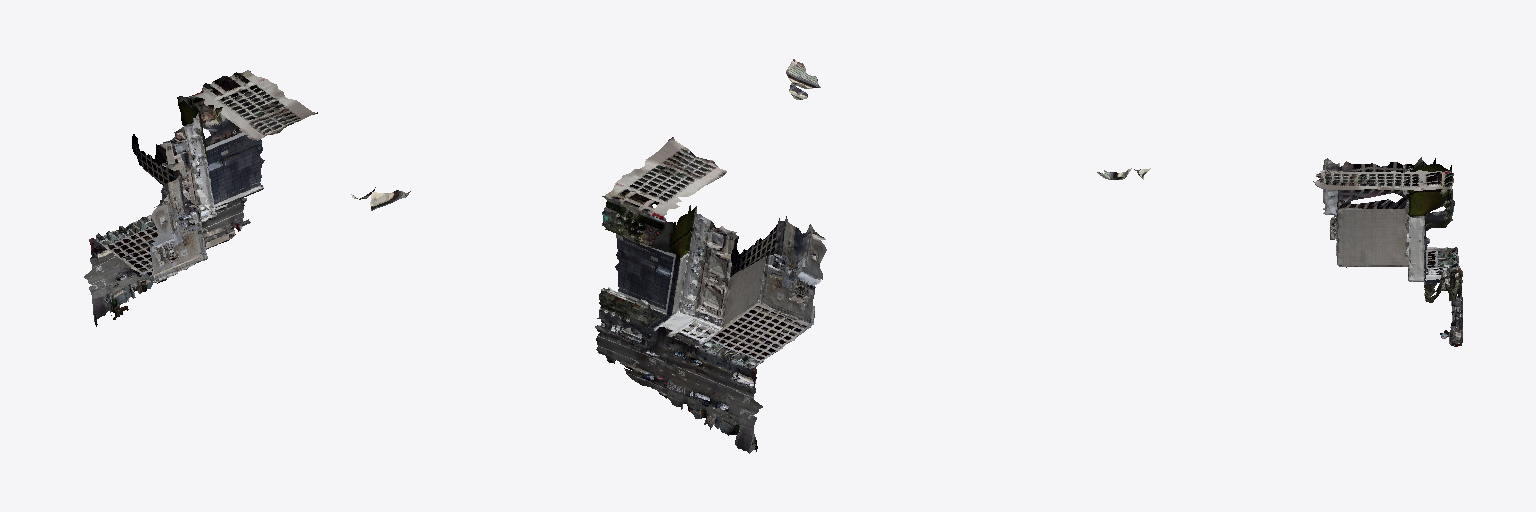
3 views of the same model, side by side, from view 1: azimuth 30°, elevation 25°; view 2: azimuth 150°, elevation 25°; view 3: azimuth 270°, elevation 25° (orthographic).
Bounding box in the file's own units: 69.85 × 91.35 × 132.
Materials: 1 (1 with a texture image).